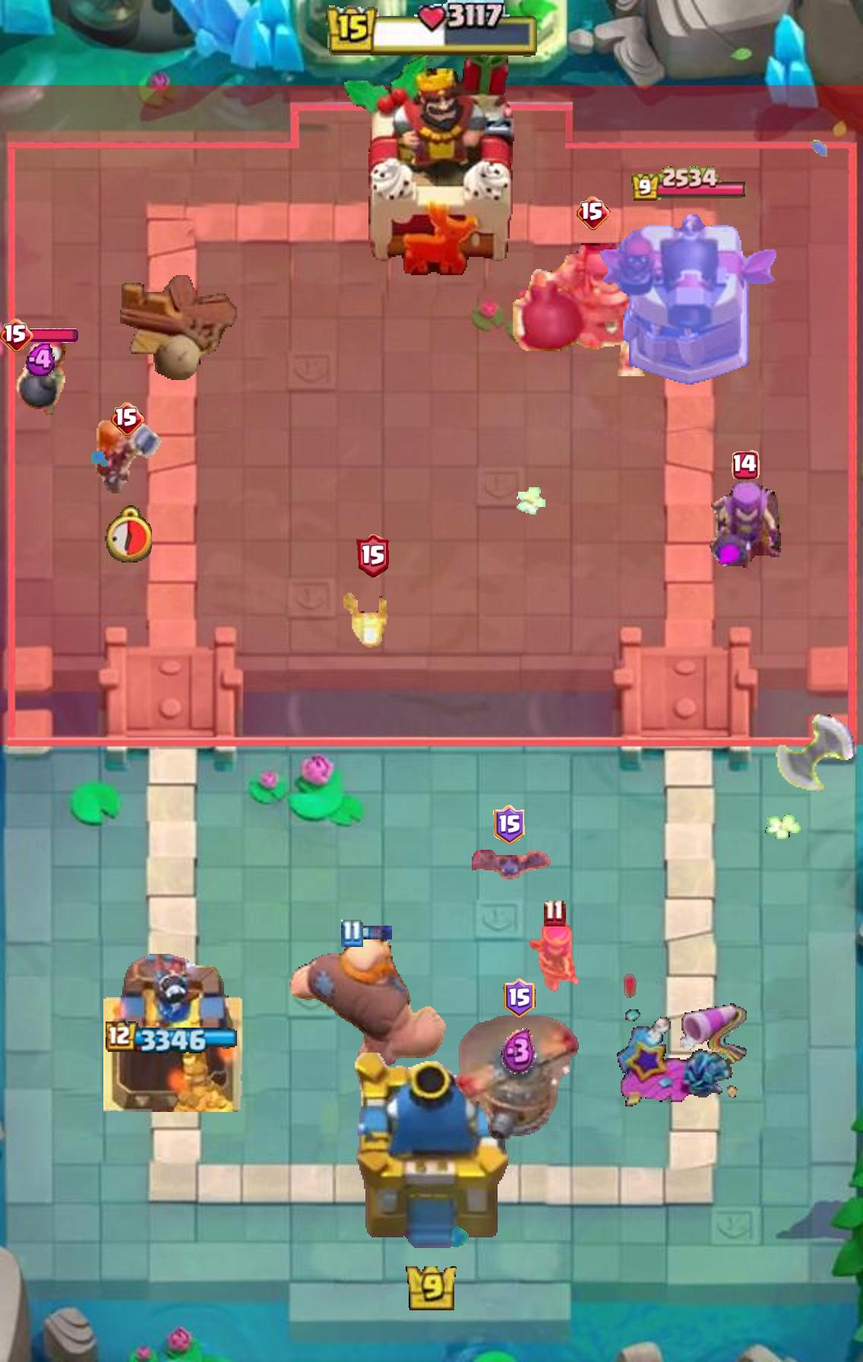bar: (28, 329, 78, 343)
bar-level: (356, 534, 389, 578), (503, 978, 536, 1018), (493, 805, 525, 846), (577, 196, 611, 231), (111, 402, 145, 437), (0, 318, 33, 353), (732, 450, 760, 480), (543, 898, 566, 927)
